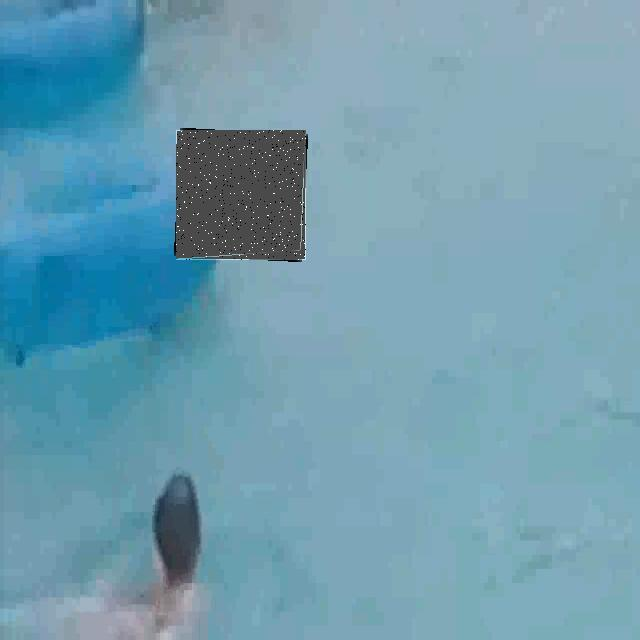Out of Water: (176, 130, 306, 260)
